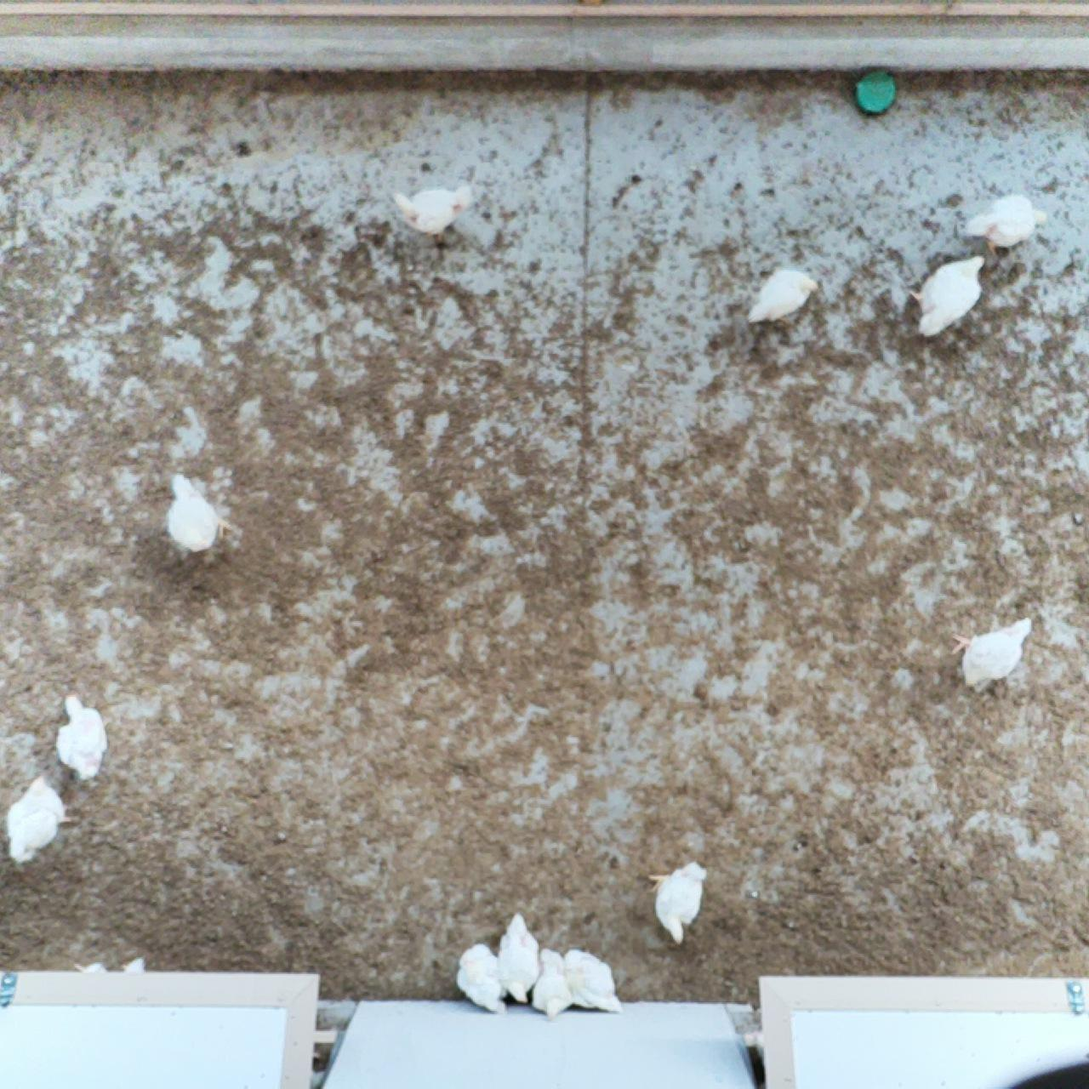chicken: (901, 249, 991, 344), (948, 611, 1036, 699), (4, 771, 80, 871), (163, 469, 241, 558), (646, 857, 713, 955), (383, 180, 477, 247), (52, 688, 115, 787), (741, 261, 823, 337), (963, 190, 1050, 257), (454, 941, 515, 1021), (496, 909, 545, 1008), (563, 943, 627, 1018), (528, 946, 574, 1024)
